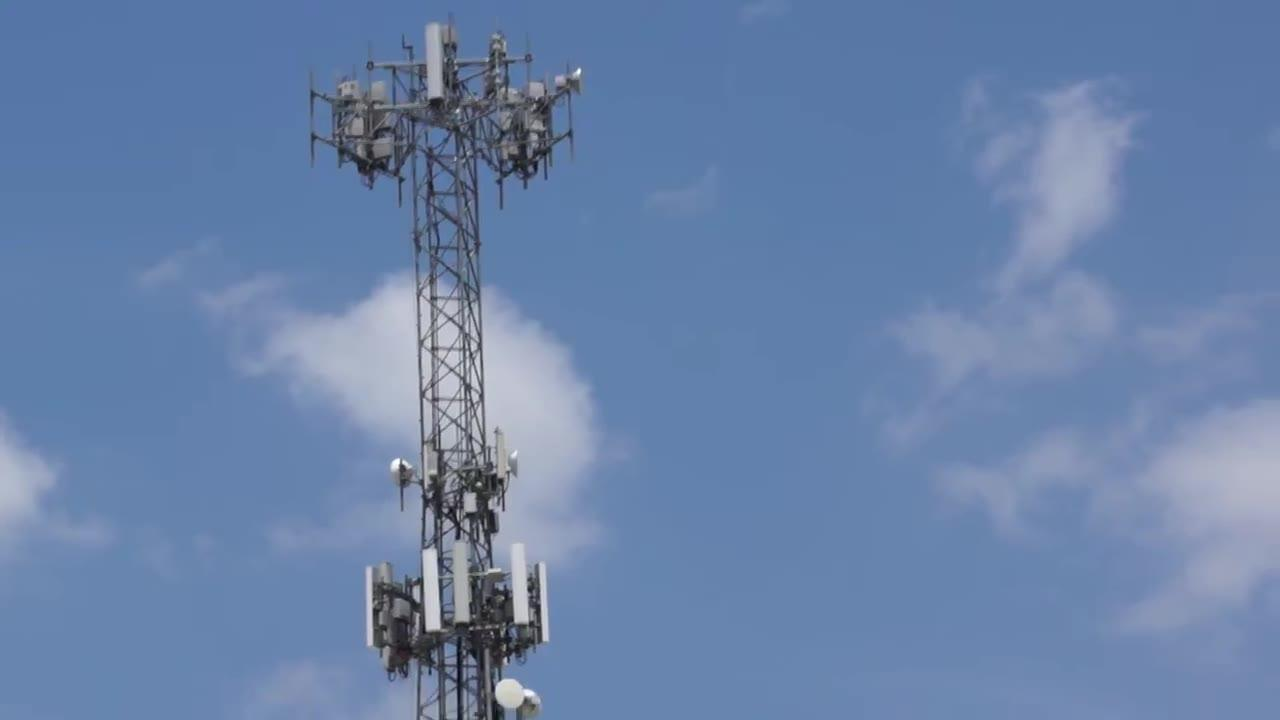Microwave Antenna: (383, 451, 420, 498), (553, 61, 590, 103), (505, 449, 526, 482)
antenna: (350, 565, 387, 681), (500, 542, 535, 663), (418, 17, 449, 125), (531, 562, 560, 673), (414, 553, 442, 655), (449, 564, 474, 661), (491, 438, 508, 498)
